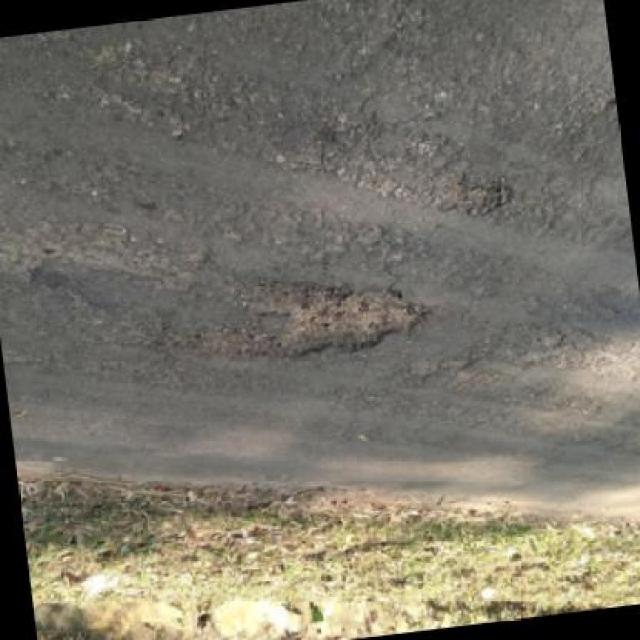pothole1: (167, 262, 438, 380), (437, 166, 518, 223)
